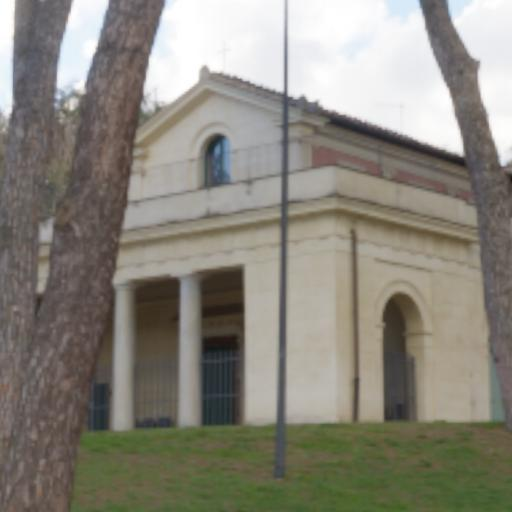nothing: (2, 0, 510, 512)
